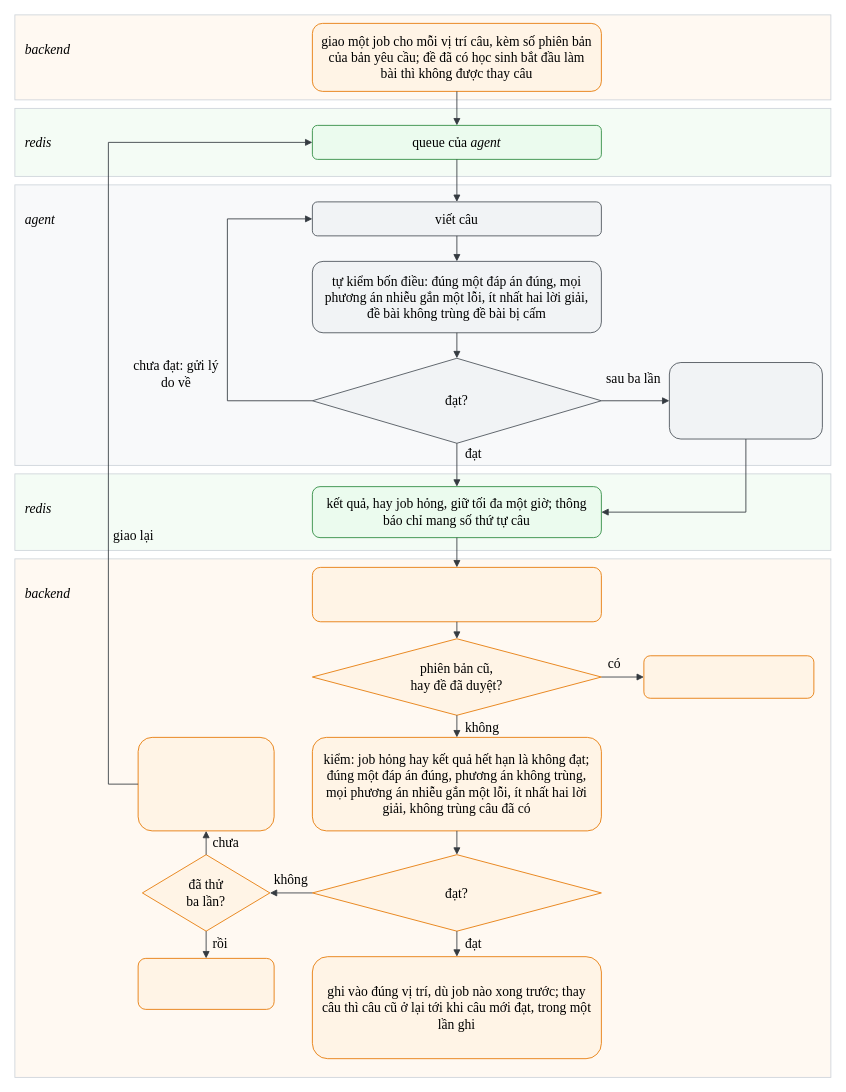
The diagram is 846 pixels wide and 1092 high, and some of its shapes have lost their labels. The shapes that lost their labels are listed below. From the top down, each one's box as (x1, y1, x2, y2) in pixels, then its label:
(669, 362, 822, 439): sau ba lần vẫn không đạt: job hỏng, không có câu thay
(312, 567, 601, 622): thu hoạch: khi có yêu cầu về đề (xem, sửa, duyệt), hay khi nhận thông báo
(643, 655, 814, 698): bỏ qua kết quả
(137, 737, 274, 831): giao lại vị trí ấy, kèm đề bài các câu hiện có
(137, 958, 274, 1009): dừng, lưu lý do thất bại
